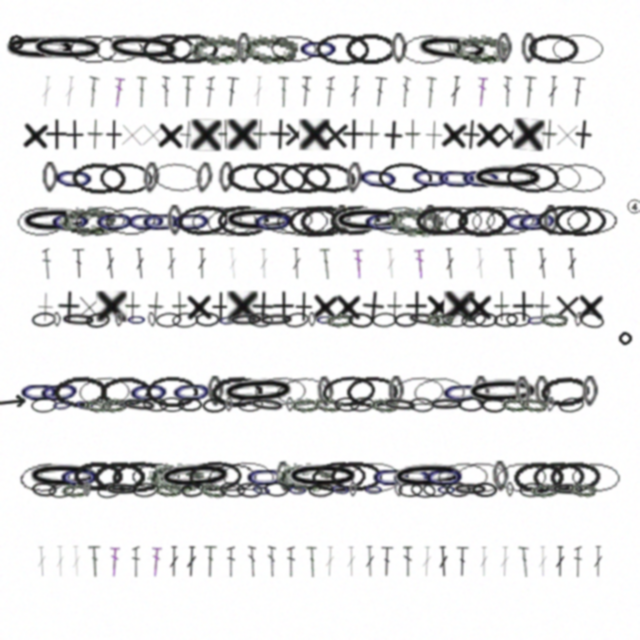chain: (413, 31, 492, 67), (104, 31, 183, 66), (219, 374, 298, 409), (156, 459, 235, 494), (389, 460, 468, 493), (29, 32, 107, 65), (469, 162, 547, 194), (18, 205, 96, 237), (464, 376, 542, 408), (1, 33, 79, 64), (221, 205, 299, 236), (331, 205, 409, 236), (25, 461, 103, 492), (284, 461, 362, 492), (301, 160, 357, 196), (274, 374, 330, 410), (252, 160, 307, 196), (17, 459, 72, 495), (386, 204, 444, 238), (551, 160, 607, 195), (73, 203, 128, 238), (176, 203, 231, 238), (321, 374, 376, 409), (58, 204, 116, 237), (442, 204, 498, 238), (150, 160, 204, 195), (399, 32, 454, 66), (372, 204, 427, 238), (311, 460, 366, 494), (188, 33, 246, 65), (190, 204, 244, 238), (147, 461, 204, 493), (528, 161, 583, 194), (470, 204, 525, 237), (111, 460, 166, 493), (188, 460, 243, 493), (220, 460, 275, 493), (205, 204, 258, 238), (539, 375, 592, 409), (103, 204, 157, 237), (261, 204, 315, 237), (537, 204, 591, 237), (53, 375, 107, 408), (77, 375, 131, 408), (253, 375, 307, 408), (391, 375, 445, 408), (241, 33, 298, 64), (451, 33, 508, 64), (276, 461, 333, 492), (71, 162, 126, 194), (412, 376, 467, 408), (279, 161, 332, 194), (299, 204, 352, 237), (329, 204, 382, 237), (483, 204, 536, 237), (210, 375, 263, 408), (316, 33, 370, 65), (99, 162, 153, 194), (226, 162, 280, 194), (378, 162, 432, 194), (506, 162, 560, 194), (275, 205, 329, 237), (532, 461, 586, 493), (165, 33, 218, 65), (527, 33, 580, 65), (15, 205, 68, 237), (415, 205, 468, 237), (565, 205, 618, 237), (205, 461, 258, 493), (349, 461, 402, 493), (436, 461, 489, 493), (455, 461, 508, 493), (549, 461, 602, 493), (551, 33, 605, 64), (93, 33, 145, 65), (142, 33, 194, 65), (268, 33, 320, 65), (288, 205, 340, 237), (457, 205, 509, 237), (100, 376, 152, 408), (495, 461, 547, 493), (513, 461, 565, 493), (570, 461, 622, 493), (217, 205, 270, 236), (431, 205, 484, 236), (330, 461, 383, 492), (67, 33, 119, 64), (345, 33, 397, 64), (554, 205, 606, 236), (146, 376, 198, 407), (346, 376, 398, 407), (93, 461, 145, 492), (130, 461, 182, 492), (73, 461, 124, 492), (37, 374, 82, 409), (356, 161, 401, 195), (515, 204, 560, 238), (409, 161, 453, 194), (170, 375, 214, 408), (390, 460, 434, 493), (52, 162, 96, 194), (435, 162, 479, 194), (459, 162, 503, 194), (93, 205, 137, 237), (124, 205, 168, 237), (169, 205, 213, 237), (251, 205, 295, 237), (502, 205, 546, 237), (127, 376, 171, 408), (440, 376, 484, 408), (49, 205, 92, 237), (140, 205, 183, 237), (362, 205, 405, 237), (297, 33, 340, 64), (18, 376, 61, 407), (58, 461, 101, 492), (244, 461, 287, 492), (370, 461, 413, 492), (423, 461, 466, 492), (406, 310, 444, 329), (120, 396, 158, 414), (248, 396, 286, 414), (381, 396, 419, 414), (194, 162, 214, 194), (316, 376, 335, 408), (275, 461, 294, 493), (60, 312, 97, 328), (228, 312, 265, 328), (258, 312, 295, 328), (142, 162, 160, 194), (345, 162, 363, 194), (514, 376, 532, 408), (96, 480, 124, 500), (428, 397, 465, 412), (104, 482, 141, 497), (452, 482, 489, 497), (550, 482, 587, 497), (578, 310, 605, 330), (218, 162, 235, 193), (207, 376, 224, 407), (473, 376, 490, 407), (534, 376, 551, 407), (492, 461, 509, 492), (325, 311, 354, 329), (99, 396, 128, 414), (198, 481, 227, 499), (530, 481, 559, 499), (460, 310, 487, 329), (236, 33, 252, 64), (391, 33, 407, 64), (496, 33, 512, 64), (521, 33, 537, 64), (42, 162, 58, 193), (167, 205, 183, 236), (334, 205, 350, 236), (422, 205, 438, 236), (543, 205, 559, 236), (388, 376, 404, 407), (582, 376, 598, 407), (425, 311, 454, 328), (313, 396, 342, 413), (519, 396, 548, 413), (568, 481, 597, 498), (283, 311, 310, 329), (558, 396, 585, 414), (48, 481, 75, 499), (85, 311, 111, 329), (180, 481, 206, 499), (410, 481, 436, 499), (441, 311, 468, 328), (219, 481, 246, 498), (84, 397, 112, 413), (291, 397, 319, 413), (370, 397, 398, 413), (61, 482, 89, 498), (31, 311, 57, 328), (142, 396, 168, 413), (349, 396, 375, 413), (31, 481, 57, 498), (422, 481, 448, 498), (155, 312, 182, 328), (236, 482, 263, 498), (540, 312, 568, 327), (501, 397, 529, 412), (154, 482, 182, 497), (172, 312, 198, 328), (493, 312, 519, 328), (31, 397, 57, 413), (132, 482, 158, 498), (308, 482, 334, 498), (73, 396, 96, 414), (250, 481, 273, 499), (248, 312, 273, 328), (348, 312, 373, 328), (372, 312, 397, 328), (394, 312, 419, 328), (202, 397, 227, 413), (409, 397, 434, 413), (481, 397, 506, 413), (519, 482, 544, 498), (329, 481, 352, 498), (159, 397, 185, 412), (237, 397, 263, 412), (334, 397, 360, 412), (458, 397, 484, 412), (195, 312, 220, 327), (473, 312, 498, 327), (506, 312, 531, 327), (177, 397, 202, 412), (264, 482, 289, 497), (398, 482, 423, 497), (446, 482, 471, 497), (472, 482, 497, 497), (217, 312, 239, 328), (51, 397, 73, 413), (526, 312, 547, 328), (287, 482, 308, 498), (126, 312, 147, 327), (315, 312, 336, 327), (363, 482, 384, 497), (436, 482, 457, 497), (147, 312, 157, 327), (574, 312, 583, 327), (546, 397, 555, 412), (394, 482, 403, 497), (53, 312, 61, 327), (115, 312, 123, 327), (308, 312, 316, 327), (225, 397, 233, 412), (286, 397, 294, 412), (83, 482, 91, 497), (349, 482, 357, 497), (506, 482, 514, 497)
double: (224, 76, 240, 108), (372, 76, 388, 108), (570, 76, 586, 108), (522, 76, 537, 108), (504, 248, 519, 279), (423, 76, 437, 108), (86, 76, 100, 107), (181, 76, 195, 107), (72, 248, 86, 279), (88, 546, 102, 577), (380, 546, 394, 577), (112, 76, 125, 108), (40, 76, 53, 107), (63, 76, 76, 107), (449, 76, 462, 107), (104, 248, 117, 279), (319, 248, 332, 279), (536, 248, 549, 279), (204, 546, 217, 577), (456, 546, 469, 577), (518, 546, 531, 577), (135, 76, 147, 107), (252, 76, 264, 107), (277, 76, 289, 107), (300, 76, 312, 107), (349, 76, 361, 107), (476, 76, 488, 107), (547, 76, 559, 107), (134, 248, 146, 279), (227, 248, 239, 279), (385, 248, 397, 279), (414, 248, 426, 279), (444, 248, 456, 279), (474, 248, 486, 279), (566, 248, 578, 279), (150, 546, 162, 577), (400, 76, 411, 107), (166, 248, 177, 279), (291, 248, 302, 279), (353, 248, 364, 279), (36, 546, 47, 577), (71, 546, 82, 577), (109, 546, 120, 577), (186, 546, 197, 577), (306, 546, 317, 577), (324, 546, 335, 577), (421, 546, 432, 577), (438, 546, 449, 577), (499, 546, 510, 577), (205, 76, 215, 107), (325, 76, 335, 107), (502, 76, 512, 107), (42, 248, 52, 279), (197, 248, 207, 279), (259, 248, 269, 279), (55, 546, 65, 577), (169, 546, 179, 577), (346, 546, 356, 577), (365, 546, 375, 577), (403, 546, 413, 577), (479, 546, 489, 577), (538, 546, 548, 577), (555, 546, 565, 577), (593, 546, 603, 577), (161, 76, 170, 107), (267, 546, 276, 577), (132, 546, 140, 577), (227, 546, 235, 577), (248, 546, 256, 577), (287, 546, 295, 577), (574, 546, 582, 577)
noise: (0, 394, 28, 409), (7, 33, 25, 51), (617, 330, 634, 347), (625, 197, 640, 216)
single: (171, 118, 204, 151), (455, 118, 488, 151), (512, 118, 545, 151), (567, 118, 600, 151), (116, 119, 148, 151), (137, 119, 169, 151), (190, 119, 222, 151), (319, 119, 351, 151), (377, 119, 409, 151), (418, 119, 450, 151), (493, 119, 525, 151), (551, 119, 583, 151), (73, 291, 105, 323), (551, 291, 583, 323), (439, 118, 470, 151), (310, 290, 341, 323), (30, 291, 61, 323), (59, 119, 90, 150), (227, 119, 258, 150), (281, 119, 312, 150), (299, 119, 330, 150), (96, 291, 127, 322), (205, 291, 236, 322), (227, 291, 258, 322), (288, 291, 319, 322), (444, 291, 475, 322), (21, 119, 51, 151), (156, 119, 186, 151), (99, 119, 129, 150), (474, 119, 504, 150), (576, 291, 606, 322), (185, 291, 214, 322), (334, 291, 363, 322), (425, 291, 454, 322), (465, 291, 494, 322), (360, 290, 386, 323), (250, 291, 275, 323), (267, 119, 292, 150), (56, 291, 81, 322), (44, 119, 68, 150), (341, 119, 365, 150), (271, 291, 295, 322), (404, 291, 428, 322), (511, 291, 535, 322), (147, 291, 165, 323), (87, 119, 104, 150), (252, 119, 269, 150), (541, 119, 558, 150), (534, 291, 551, 322), (218, 119, 234, 150), (364, 119, 380, 150), (405, 119, 421, 150), (125, 291, 141, 322), (172, 291, 188, 322), (387, 291, 403, 322), (494, 291, 510, 322)
